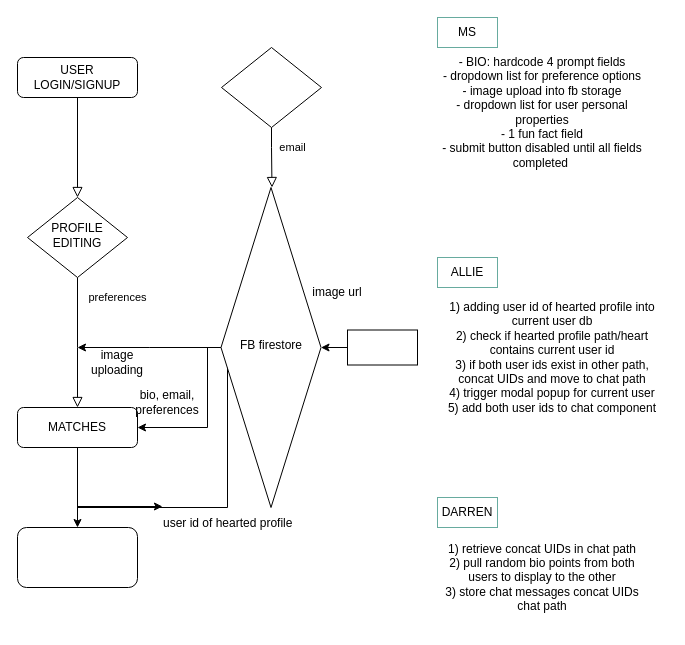
This 685x645 diagram has some shape labels left out. Here are the shapes that lost their labels. From the top down, the centre of each, then its label:
At (271,87): "FB auth".
At (382,347): "FB storage".
At (77,557): "match algo".
